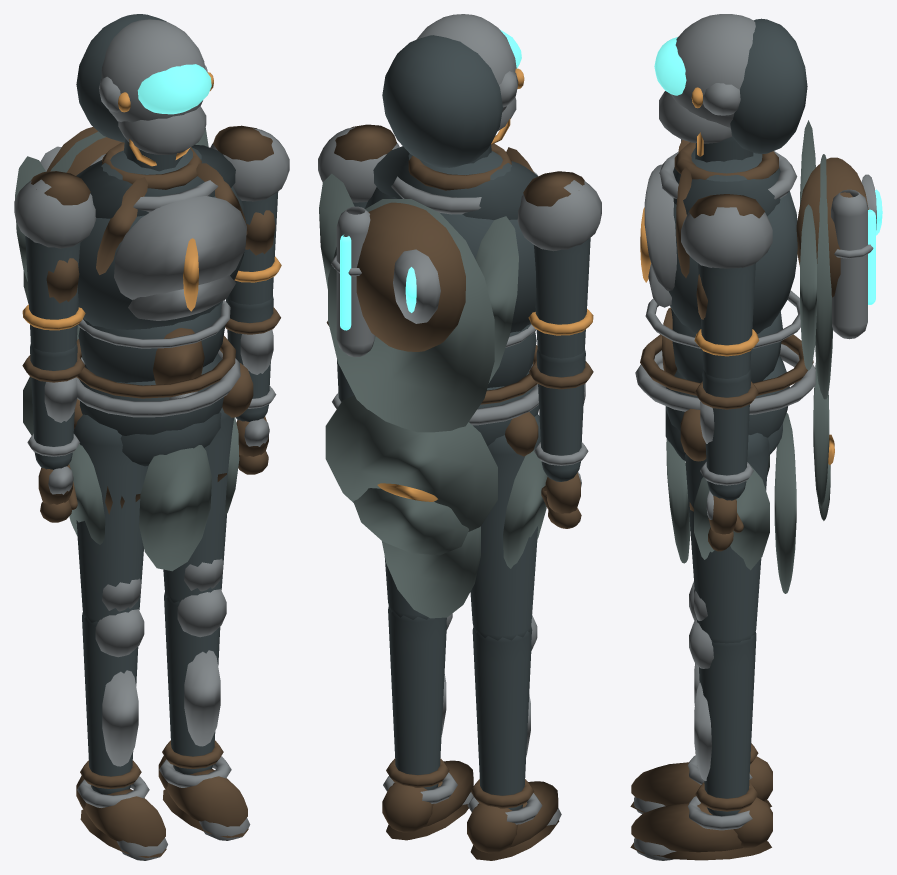
The model's file is wayfarer.glb.
3 renders of one model, left to right at view 1: azimuth 30°, elevation 25°; view 2: azimuth 150°, elevation 25°; view 3: azimuth 270°, elevation 25°, orthographic. The views are drawn at different scales.
Visible parts, largest first — view 1: chest, head, spine, skirt, thigh_l, shin_l, shin_r, hips, upper_arm_l, forearm_l, shoulder_l, foot_l (+10 smaller); view 2: cape, cape_tip, backpack, head, chest, shin_l, shin_r, skirt, thigh_l, upper_arm_l, forearm_l, shoulder_l (+7 smaller); view 3: head, chest, shin_r, backpack, skirt, thigh_r, foot_r, spine, cape, upper_arm_r, hips, forearm_r (+5 smaller).
Part boxes in pixels (<box>): chest: <box>76,142,247,329</box>; head: <box>76,14,213,166</box>; spine: <box>76,300,235,398</box>; skirt: <box>69,417,239,571</box>; thigh_l: <box>73,414,148,622</box>; shin_l: <box>80,609,144,794</box>; shin_r: <box>162,589,226,774</box>; hips: <box>74,350,253,466</box>; upper_arm_l: <box>22,236,85,352</box>; forearm_l: <box>22,343,84,469</box>; shoulder_l: <box>14,171,96,248</box>; foot_l: <box>76,775,167,860</box>; cape: <box>319,173,518,432</box>; cape_tip: <box>325,395,497,555</box>; backpack: <box>331,202,465,357</box>; head: <box>382,14,524,167</box>; chest: <box>365,143,537,332</box>; shin_l: <box>470,615,537,810</box>; shin_r: <box>386,606,452,789</box>; skirt: <box>382,449,547,618</box>; thigh_l: <box>470,414,540,640</box>; upper_arm_l: <box>528,238,593,358</box>; forearm_l: <box>529,349,593,481</box>; shoulder_l: <box>517,171,601,251</box>; head: <box>654,14,807,156</box>; chest: <box>640,139,797,333</box>; shin_r: <box>689,618,758,816</box>; backpack: <box>796,157,882,339</box>; skirt: <box>666,412,796,593</box>; thigh_r: <box>685,433,769,643</box>; foot_r: <box>630,796,772,860</box>; spine: <box>640,290,813,395</box>; cape: <box>800,120,832,399</box>; upper_arm_r: <box>694,263,759,378</box>; hips: <box>635,344,815,461</box>; forearm_r: <box>694,369,758,500</box>.
Bounding box in the file's own units: 0.6052 × 1.77 × 0.494.
